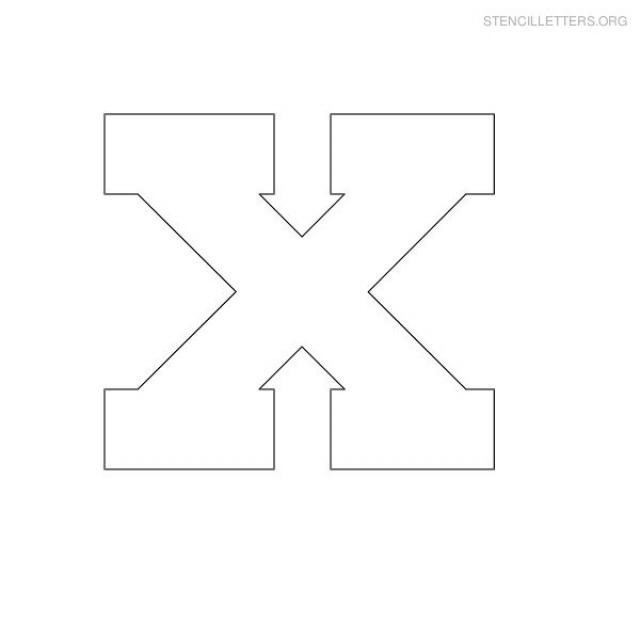X: (44, 76, 542, 530)
